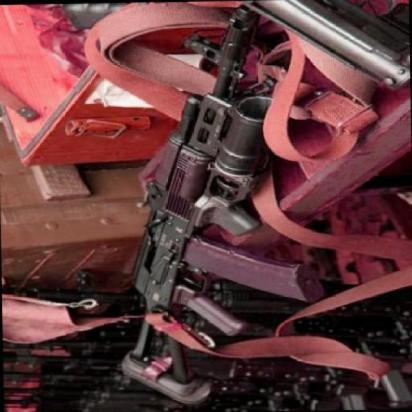Gun: (124, 8, 314, 390)
